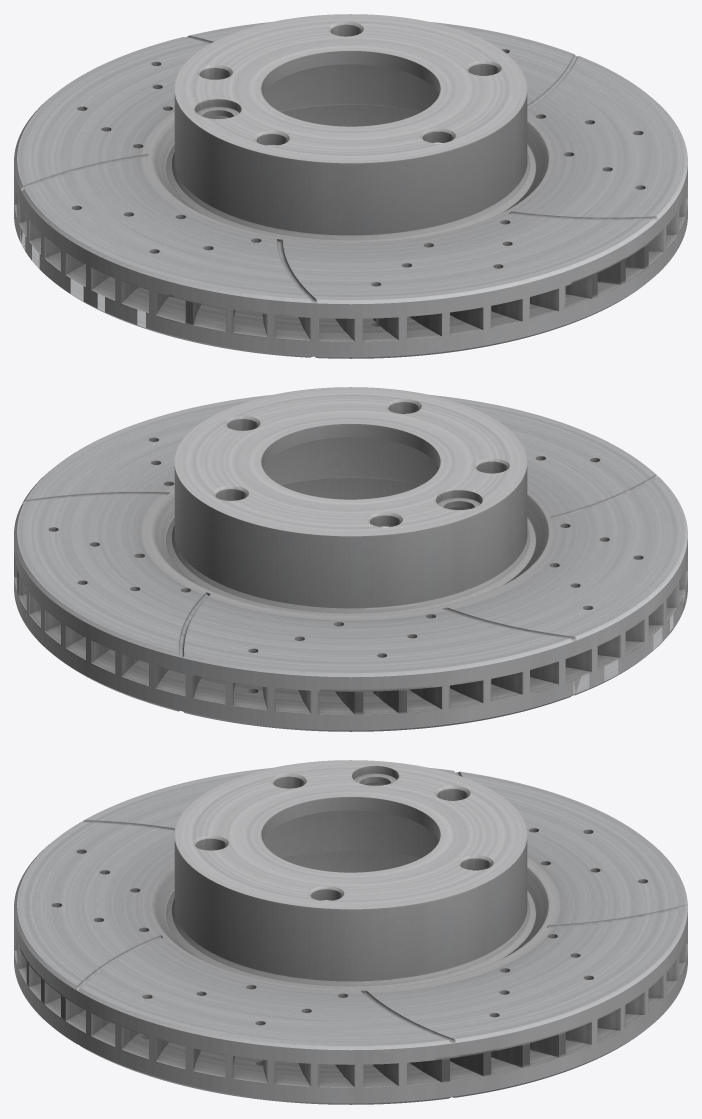
File: brake_disc.glb
The picture shows the model from 3 angles, top to bottom: view 1: azimuth 30°, elevation 25°; view 2: azimuth 150°, elevation 25°; view 3: azimuth 270°, elevation 25°; orthographic projection.
Parts seen in each view (by area): view 1: BrakeDisc; view 2: BrakeDisc; view 3: BrakeDisc.
Part boxes in pixels (x1,y1,x2,y2): BrakeDisc: (14,14,687,358); BrakeDisc: (14,387,687,731); BrakeDisc: (14,760,687,1104).
Size of the model in its own units: 0.333 by 0.0703 by 0.333.
Materials: 2 (2 with a texture image).
